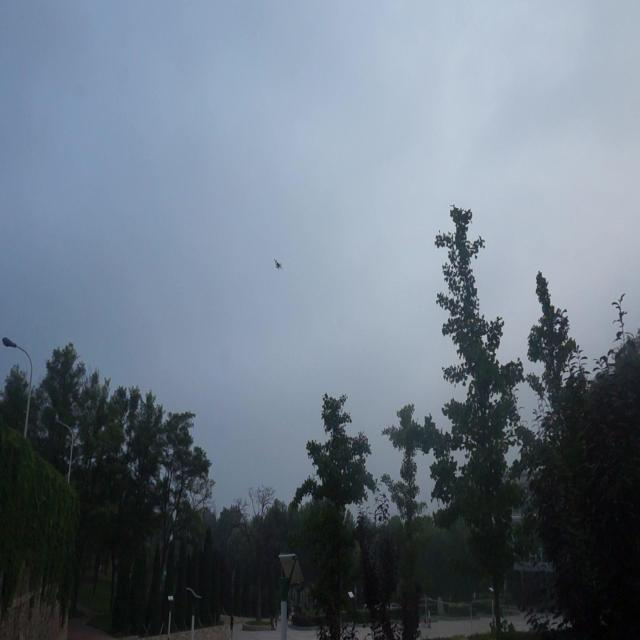drone: (272, 254, 284, 275)
